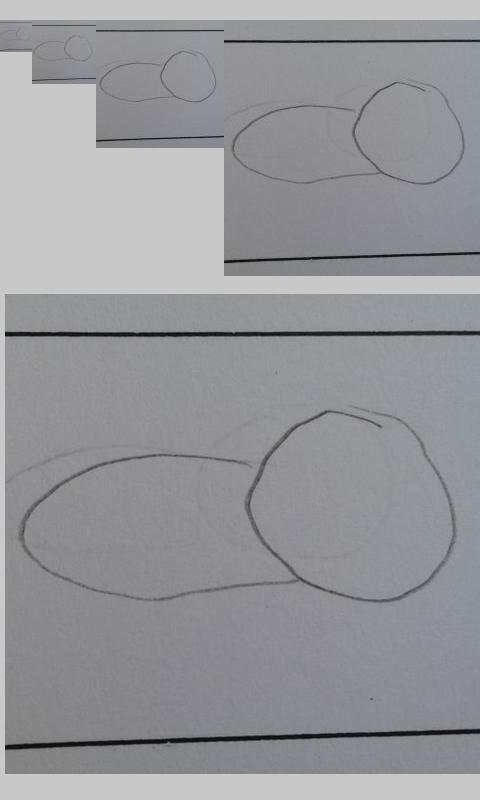switch: (17, 404, 459, 604), (230, 79, 466, 186), (99, 49, 217, 103), (33, 34, 93, 63), (1, 26, 32, 42)
